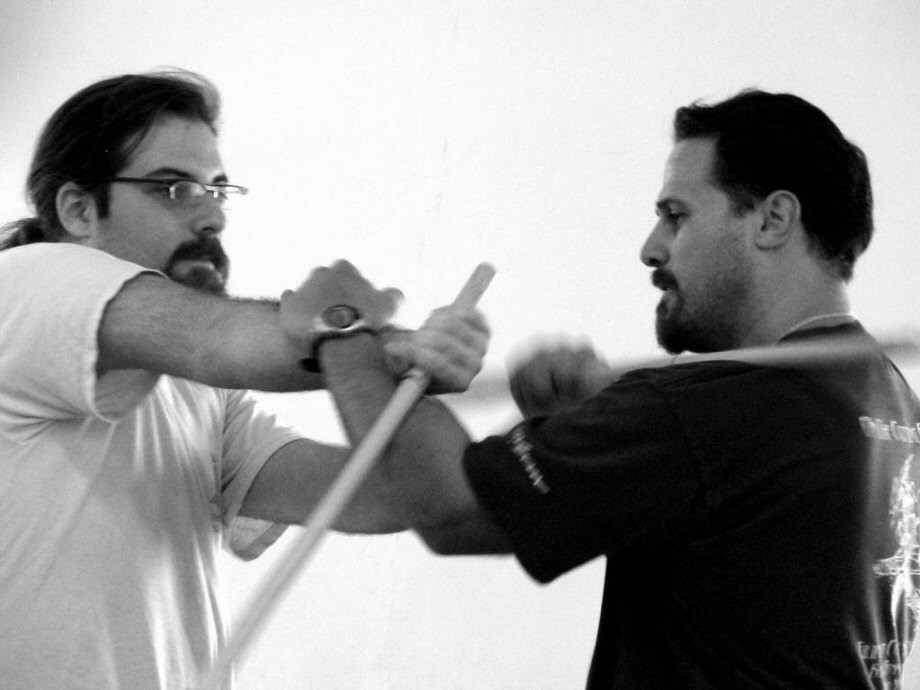baston_e: (186, 278, 490, 679), (604, 329, 916, 388)
baston_v: (462, 254, 506, 288)
